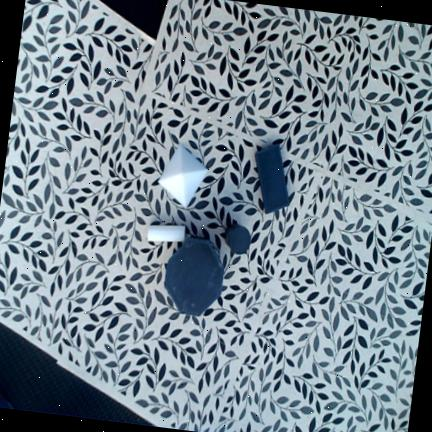Cilindro: (224, 224, 250, 252), (146, 225, 185, 241)
Paralelepipedo: (254, 143, 289, 213)
Piramide: (157, 142, 208, 208)
Prisma_hexagonal: (164, 235, 223, 316)
